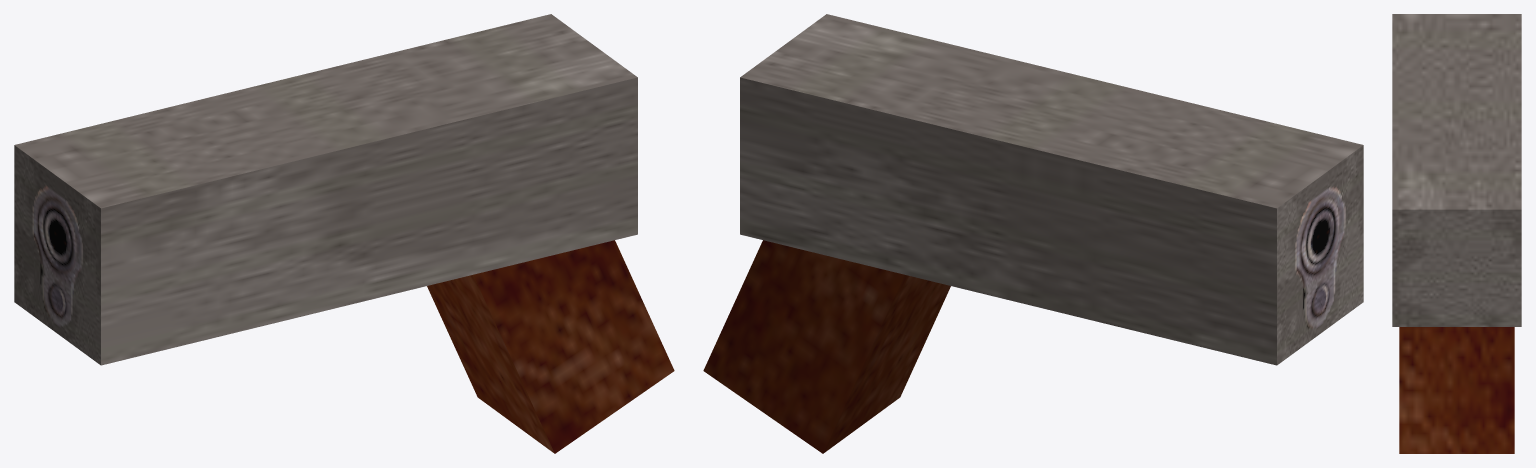
The model's file is Gun.fbx.
3 views of the same model, side by side, from view 1: azimuth 30°, elevation 25°; view 2: azimuth 150°, elevation 25°; view 3: azimuth 270°, elevation 25° (orthographic). The views are drawn at different scales.
Visible parts, largest first — view 1: Cube.001; view 2: Cube.001; view 3: Cube.001.
Boxes of the visible parts, bbox=[...] form: Cube.001: bbox=[14, 14, 674, 453]; Cube.001: bbox=[703, 14, 1363, 453]; Cube.001: bbox=[1392, 14, 1521, 453].
Bounding box in the file's own units: 309 × 184 × 80.19.
